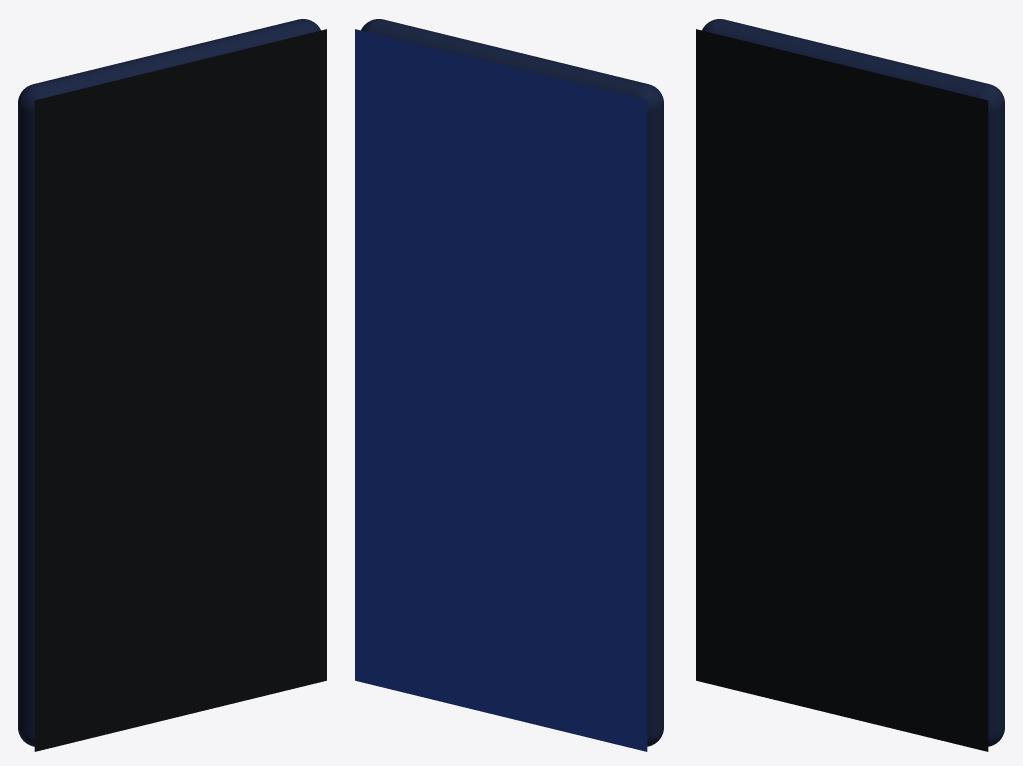
The model's file is phone.glb.
3 renders of one model, left to right at view 1: azimuth 30°, elevation 25°; view 2: azimuth 150°, elevation 25°; view 3: azimuth 330°, elevation 25°, orthographic.
Visible parts, largest first — view 1: Front, Body; view 2: Back, Body; view 3: Front, Body.
Part boxes in pixels (x1=…): Front: x1=34, y1=29, x2=326, y2=751; Body: x1=18, y1=19, x2=320, y2=746; Back: x1=355, y1=29, x2=647, y2=751; Body: x1=361, y1=19, x2=663, y2=746; Front: x1=696, y1=29, x2=988, y2=751; Body: x1=702, y1=19, x2=1004, y2=746.
Bounding box in the file's own units: 0.78 × 1.64 × 0.093.
